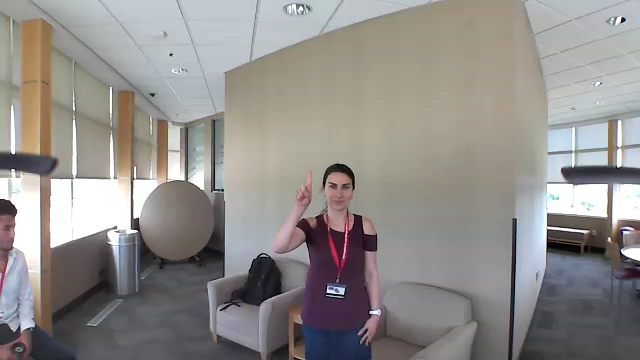up: (289, 166, 315, 214)
